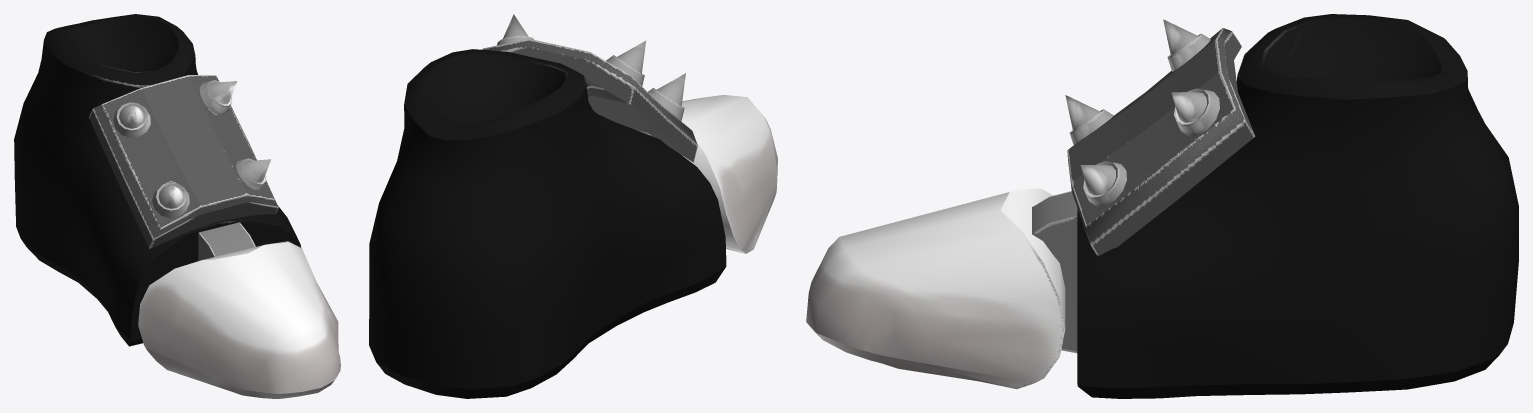
The model's file is footL.fbx.
3 views of the same model, side by side, from view 1: azimuth 30°, elevation 25°; view 2: azimuth 150°, elevation 25°; view 3: azimuth 270°, elevation 25° (orthographic). The views are drawn at different scales.
Visible parts, largest first — view 1: matte_0.004, matte_1.003, metalic_0.005; view 2: matte_0.004, matte_1.003, metalic_0.005; view 3: matte_0.004, matte_1.003, metalic_0.005.
Part boxes in pixels (bbox=[...]): matte_0.004: bbox=[14, 14, 301, 346]; matte_1.003: bbox=[138, 241, 340, 398]; metalic_0.005: bbox=[89, 75, 278, 248]; matte_0.004: bbox=[369, 49, 726, 398]; matte_1.003: bbox=[681, 95, 777, 253]; metalic_0.005: bbox=[482, 14, 697, 162]; matte_0.004: bbox=[1032, 14, 1518, 398]; matte_1.003: bbox=[806, 188, 1065, 389]; metalic_0.005: bbox=[1065, 19, 1255, 256].
Bounding box in the file's own units: 341 × 863 × 393.
1 material, 1 textured.
